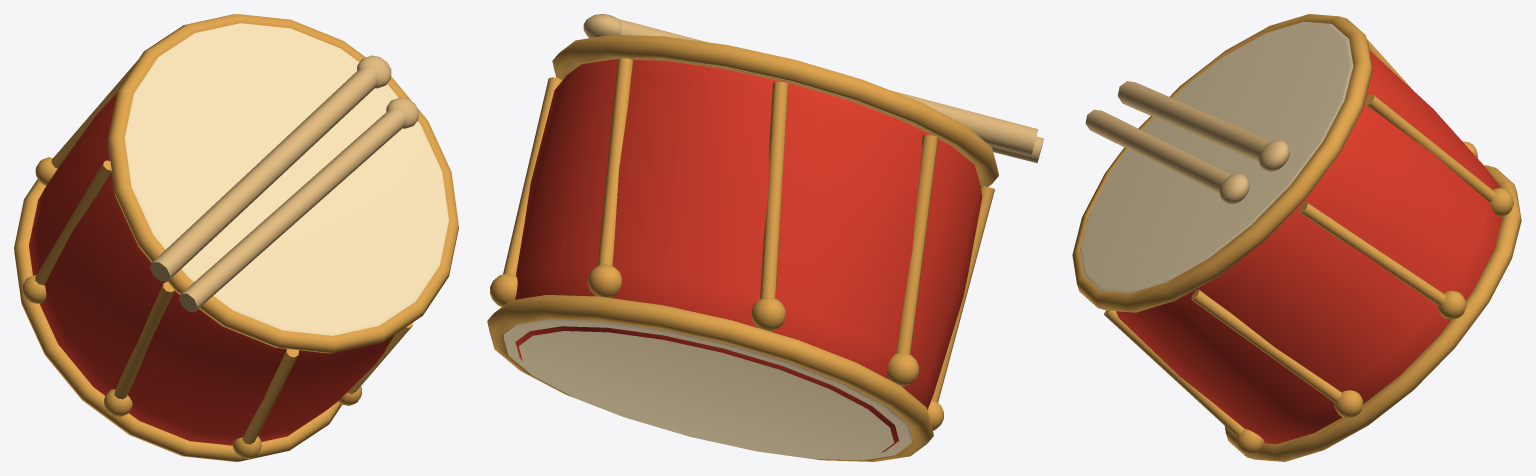
Rendered from drum.glb.
The picture shows the model from 3 angles, left to right: view 1: azimuth 30°, elevation 25°; view 2: azimuth 150°, elevation 25°; view 3: azimuth 270°, elevation 25°; orthographic projection. The views are drawn at different scales.
Parts seen in each view (by area): view 1: drum; view 2: drum; view 3: drum.
Boxes of the visible parts, x1=… form: drum: x1=14, y1=14, x2=458, y2=461; drum: x1=487, y1=14, x2=1043, y2=461; drum: x1=1072, y1=14, x2=1521, y2=461.
Size of the model in its own units: 0.8507 by 0.9025 by 0.9327.
